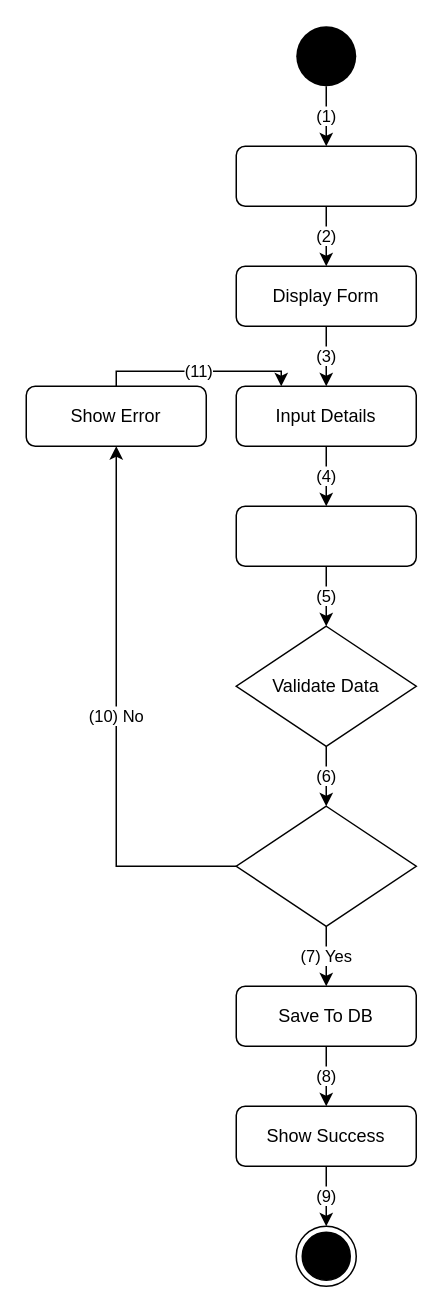
Some shapes in this 443 by 1313 pixel diagram are drawn without their labels. The centre of each missing label's shape, as x and y in pixels:
Access Plan: (325,175)
Click Save: (325,535)
Is Valid: (325,865)
